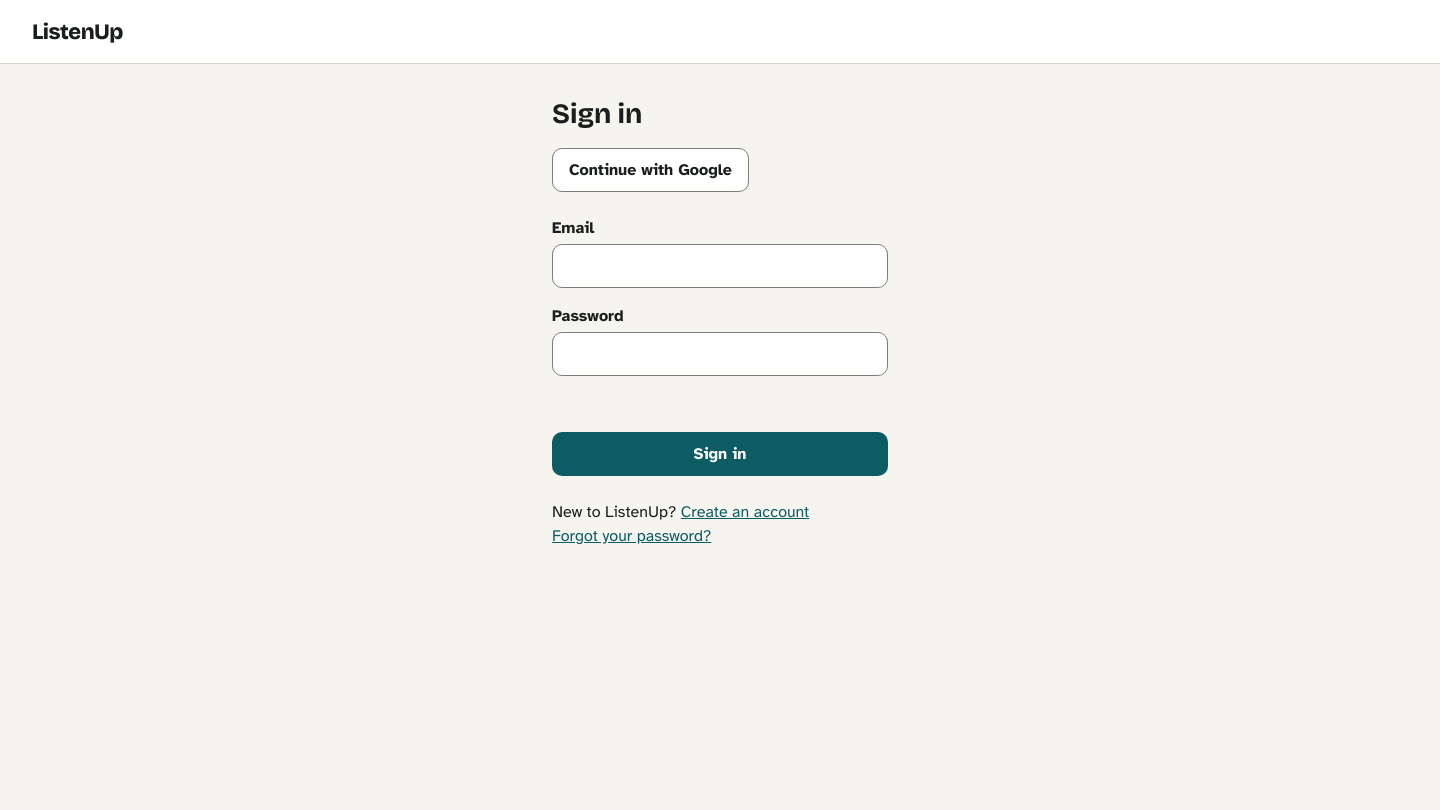
Test: signing in to a deleted account (#120) › declining keeps the account deleted and signs nobody in
This screenshot has width=1440, height=810.
In the field labelled "Email": [720, 266] box [552,244,888,288], type "learner@example.com"
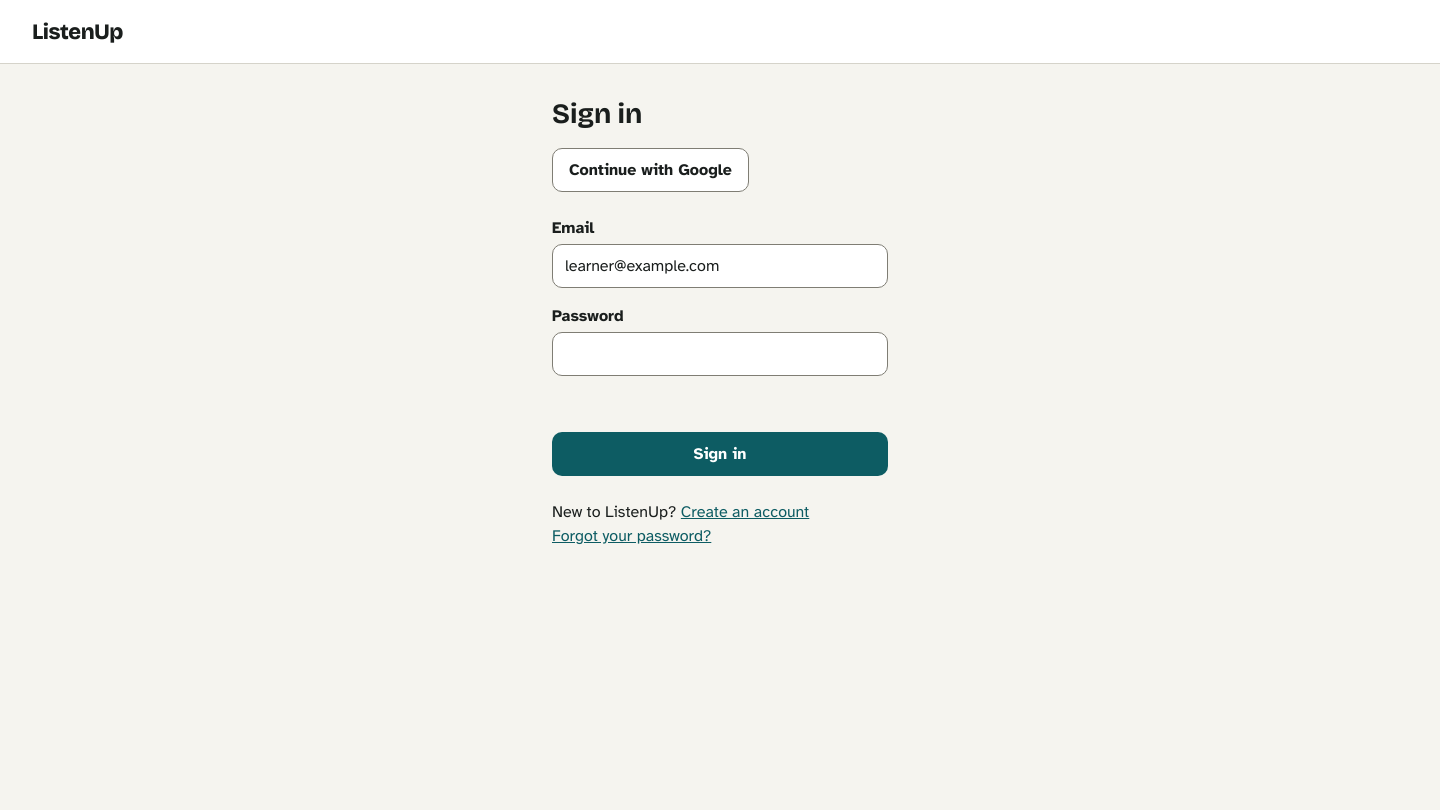
In the password field labelled "Password": [720, 354] box [552,332,888,376], type "correct horse"
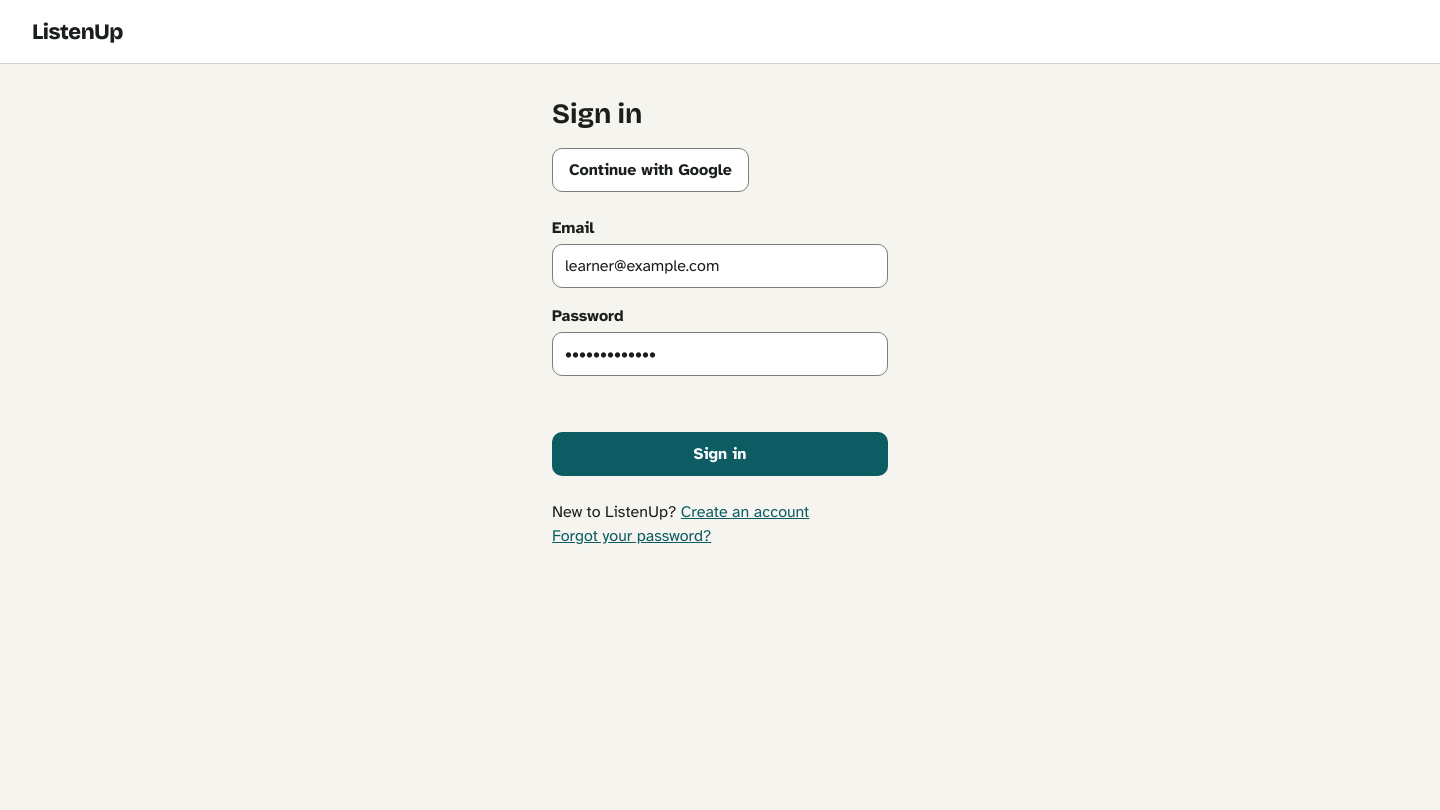
Click the button "Sign in": [720, 454] box [552,432,888,476]
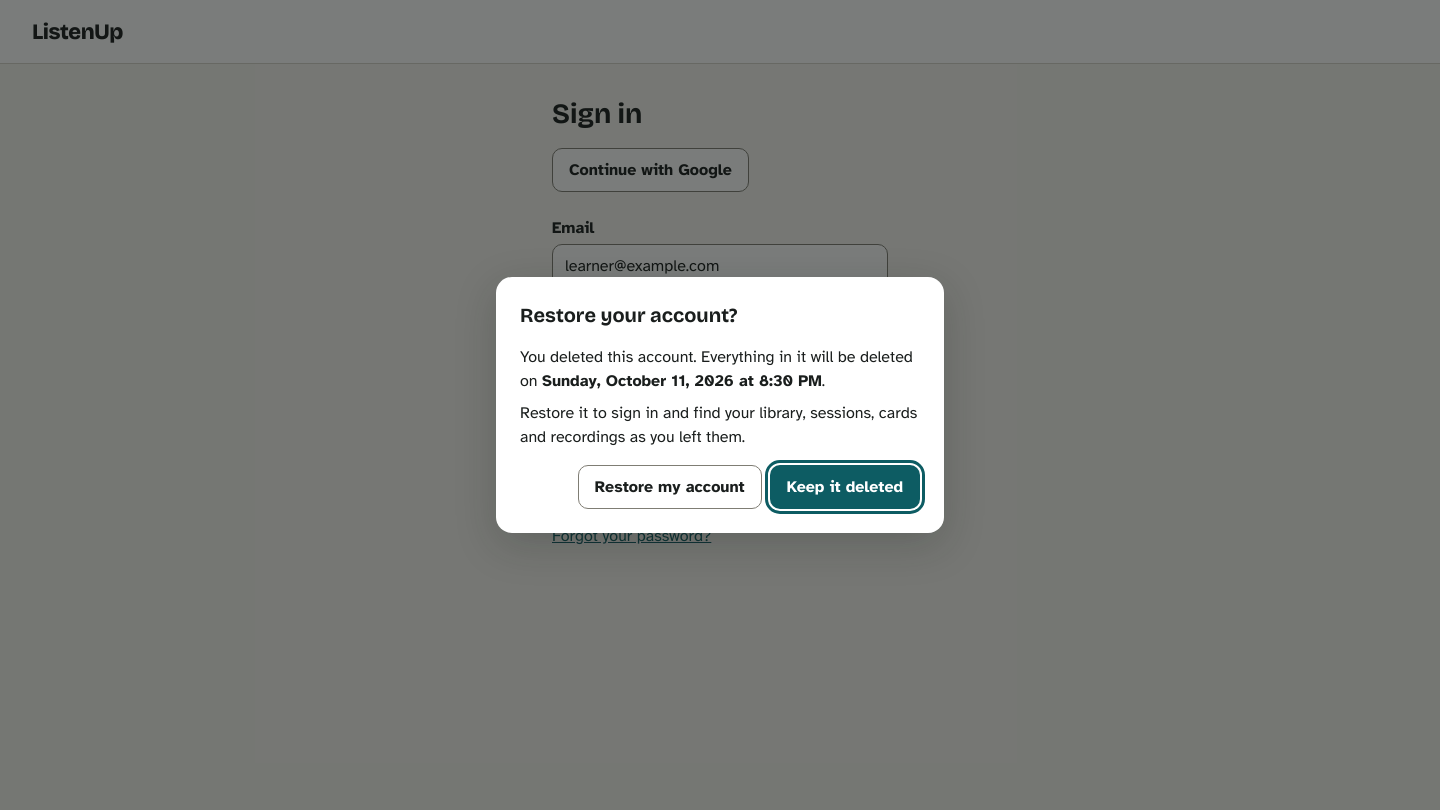
Click the button "Keep it deleted": [845, 487] box [770,465,920,509]
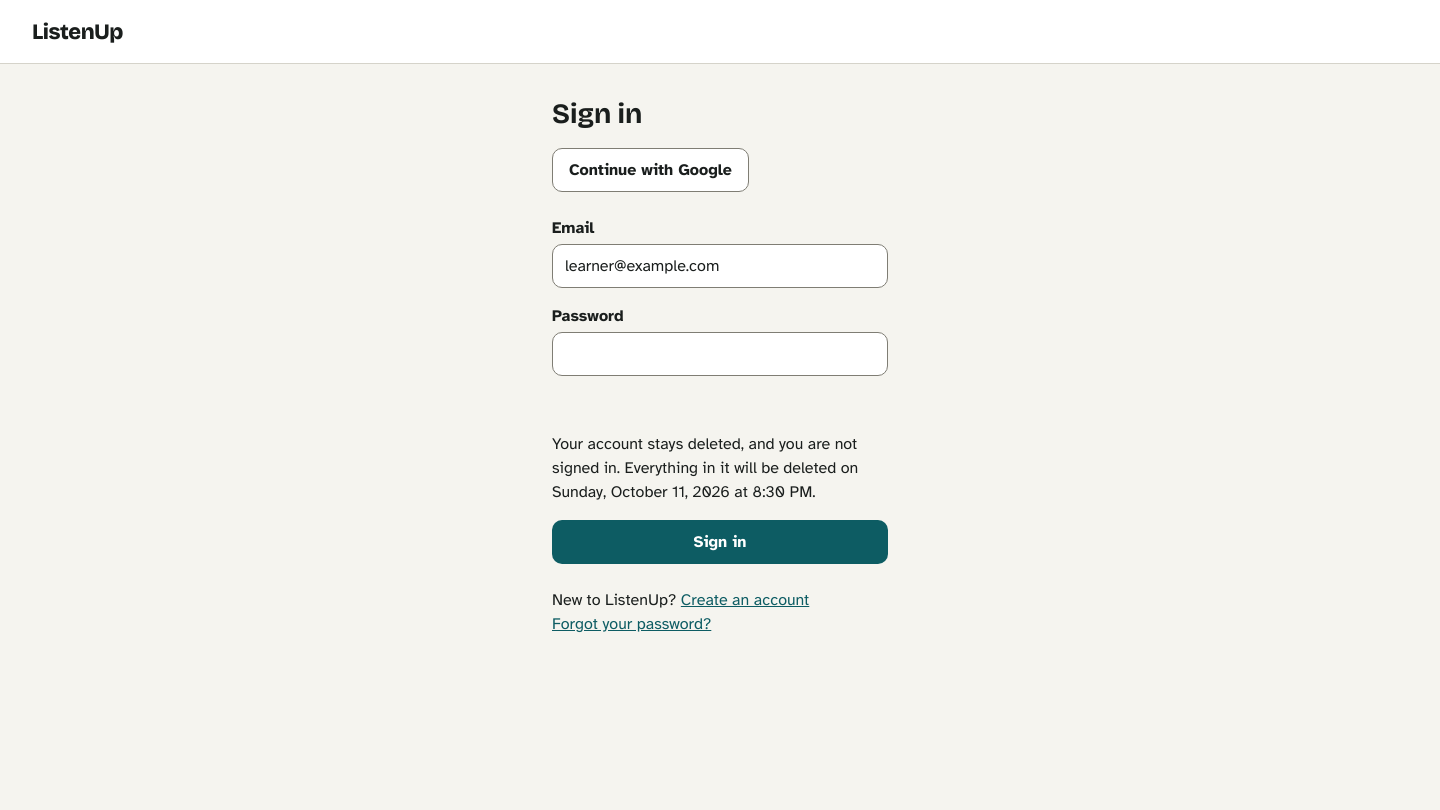
Now the dialog is gone
Now the 2nd message shows "Your account stays deleted", box [552,434,858,478]
Now the password field labelled "Password" is empty, box [552,332,888,376]
